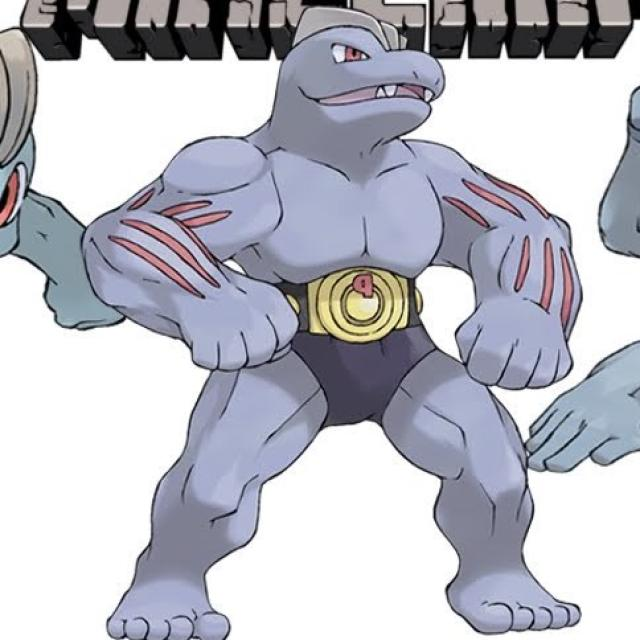Machoke: (86, 19, 600, 626)
